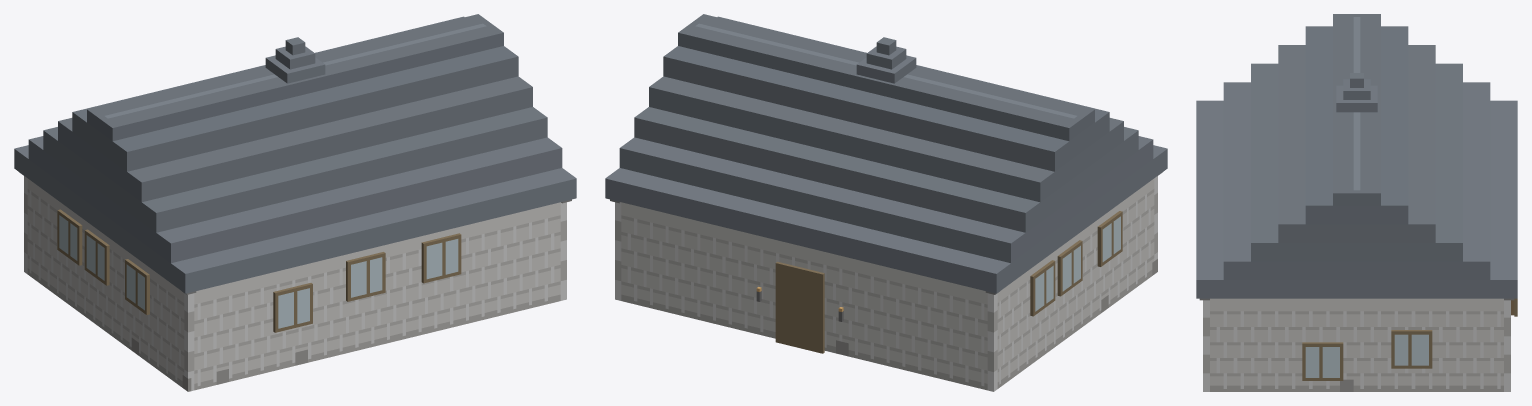
Rendered from gran_catedral_04.glb.
3 views of the same model, side by side, from view 1: azimuth 30°, elevation 25°; view 2: azimuth 150°, elevation 25°; view 3: azimuth 270°, elevation 25° (orthographic). The views are drawn at different scales.
Visible parts, largest first — view 1: gran_catedral_04; view 2: gran_catedral_04; view 3: gran_catedral_04.
Part boxes in pixels (bbox=[...]): gran_catedral_04: bbox=[14, 14, 576, 391]; gran_catedral_04: bbox=[605, 14, 1167, 391]; gran_catedral_04: bbox=[1196, 14, 1517, 391].
Size of the model in its own units: 12.4 by 7.4 by 9.4.
